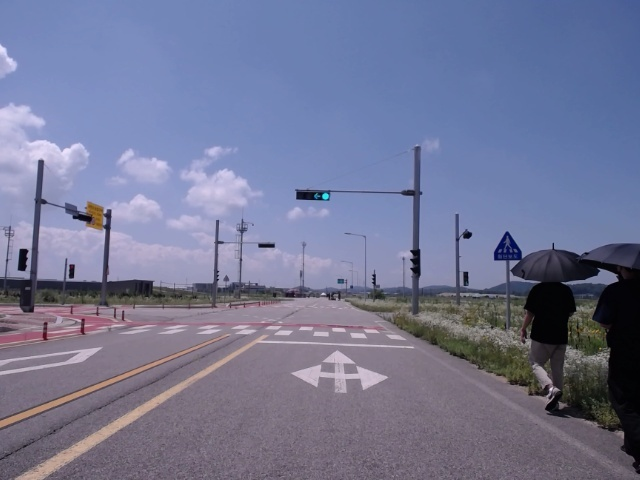all_green_4: (296, 188, 332, 203)
